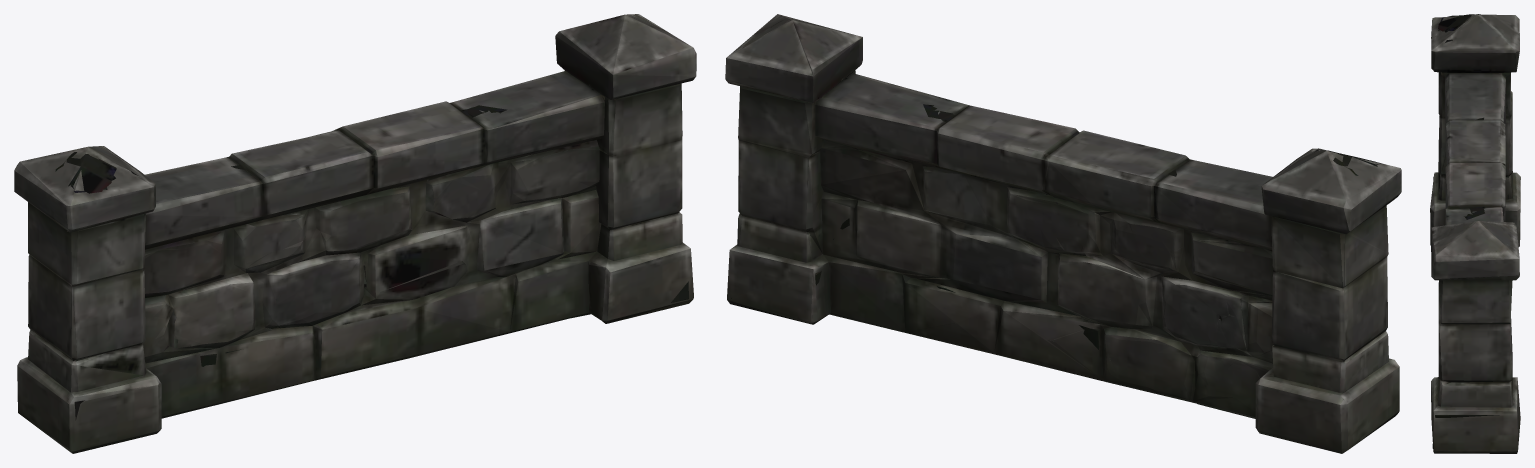
File: war_wall_01.glb
3 views of the same model, side by side, from view 1: azimuth 30°, elevation 25°; view 2: azimuth 150°, elevation 25°; view 3: azimuth 270°, elevation 25° (orthographic). The views are drawn at different scales.
Parts seen in each view (by area): view 1: geometry_0; view 2: geometry_0; view 3: geometry_0.
Part boxes in pixels (x1,y1,x2,y2): geometry_0: [14, 14, 696, 453]; geometry_0: [725, 14, 1401, 453]; geometry_0: [1430, 14, 1520, 453].
Size of the model in its own units: 0.9996 by 0.4211 by 0.1577.
Materials: 1 (1 with a texture image).
